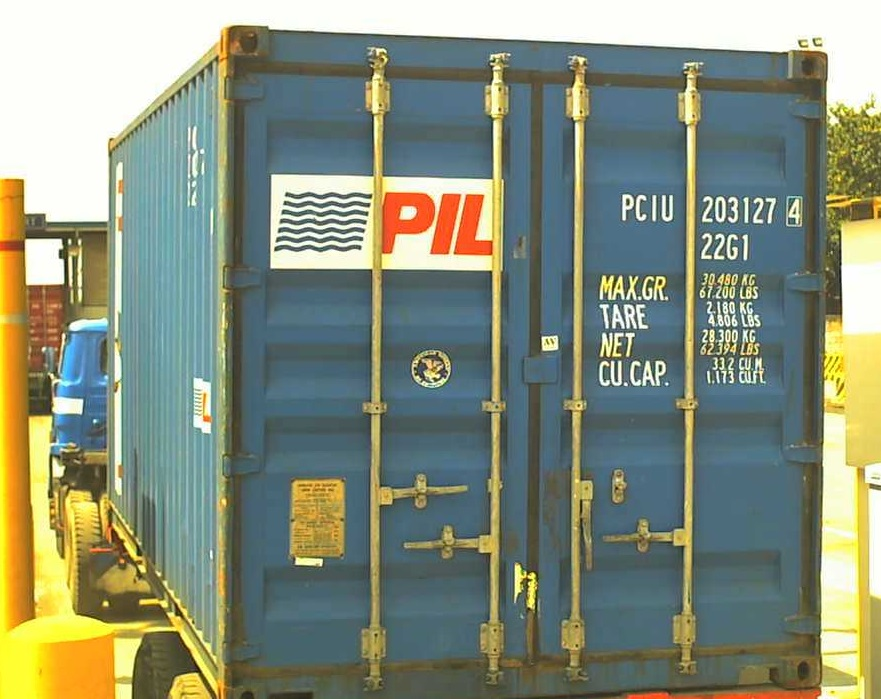container_door: (234, 11, 831, 699)
